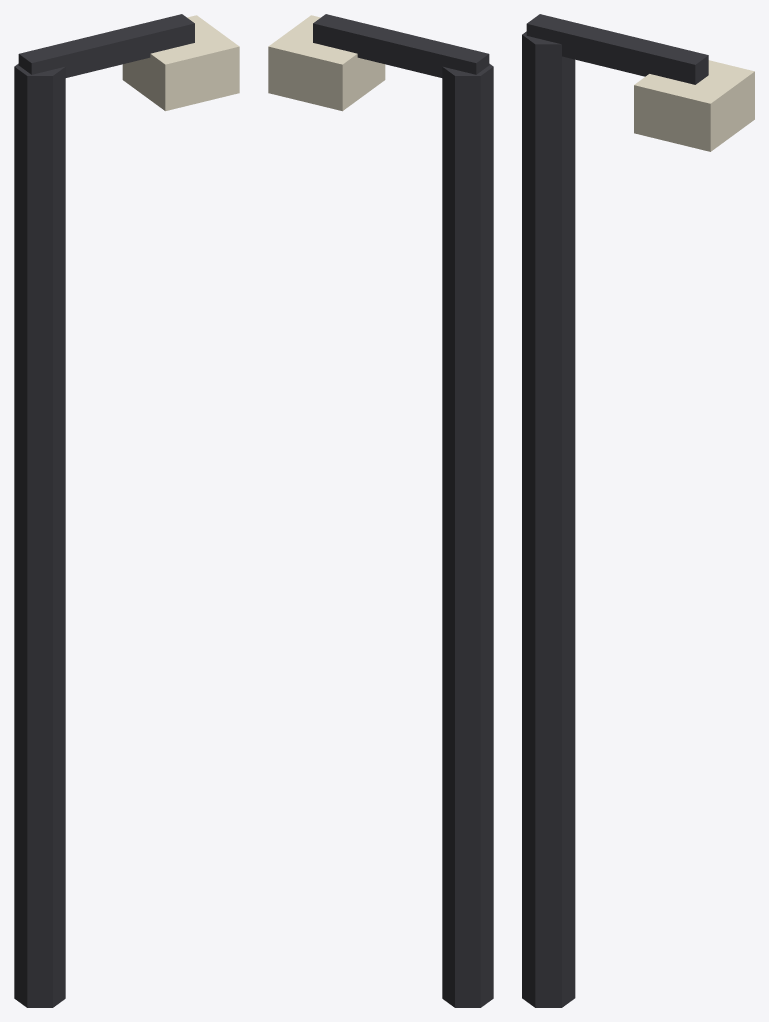
The model's file is SM_Streetlamp.fbx.
The picture shows the model from 3 angles, left to right: view 1: azimuth 30°, elevation 25°; view 2: azimuth 150°, elevation 25°; view 3: azimuth 330°, elevation 25°; orthographic projection. The views are drawn at different scales.
Visible parts, largest first — view 1: SM_Streetlamp; view 2: SM_Streetlamp; view 3: SM_Streetlamp.
Boxes of the visible parts, bbox=[...] form: SM_Streetlamp: bbox=[14, 14, 239, 1007]; SM_Streetlamp: bbox=[268, 14, 493, 1007]; SM_Streetlamp: bbox=[522, 14, 754, 1007].
Bounding box in the file's own units: 266 × 1215 × 100.
